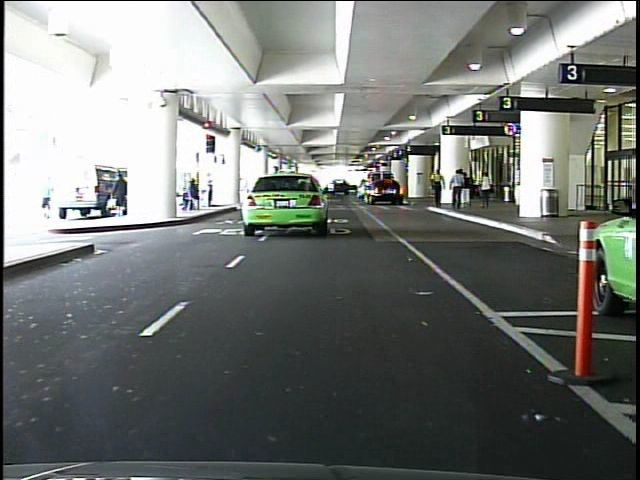person: (37, 166, 61, 227), (113, 168, 137, 217), (475, 168, 496, 217), (427, 166, 448, 212), (448, 164, 467, 212), (204, 170, 218, 213), (461, 171, 474, 212)
